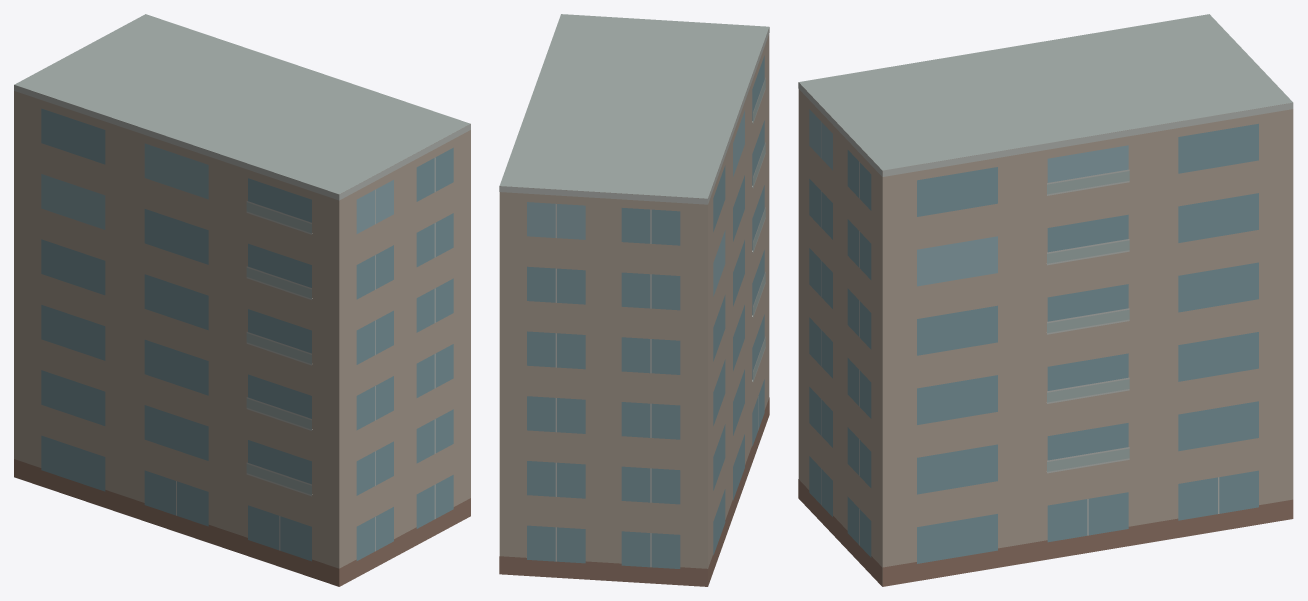
The model's file is survey-upis-32888484.glb.
3 renders of one model, left to right at view 1: azimuth 30°, elevation 25°; view 2: azimuth 150°, elevation 25°; view 3: azimuth 270°, elevation 25°, orthographic. The views are drawn at different scales.
Visible parts, largest first — view 1: survey-upis-32888484.tmp; view 2: survey-upis-32888484.tmp; view 3: survey-upis-32888484.tmp.
Part boxes in pixels (x1,y1,x2,y2): survey-upis-32888484.tmp: (14,14,470,586); survey-upis-32888484.tmp: (499,14,769,586); survey-upis-32888484.tmp: (798,14,1293,586).
Bounding box in the file's own units: 12.68 × 15.7 × 16.93.
